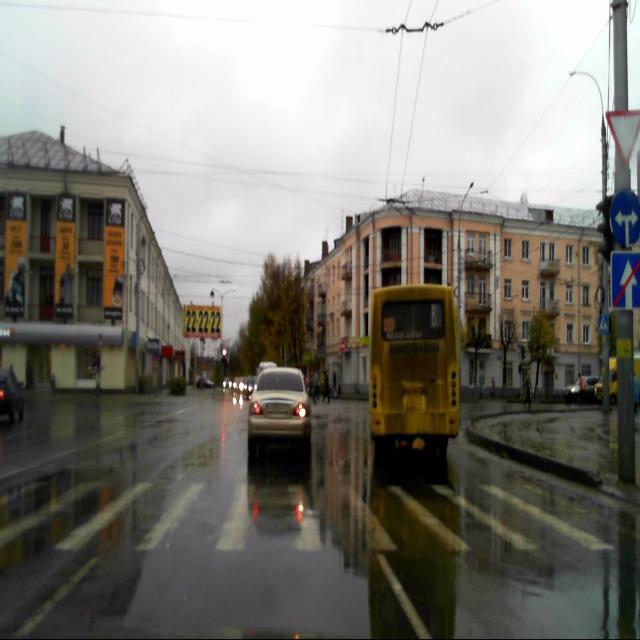road sign: (603, 109, 640, 173), (610, 251, 640, 309), (598, 315, 608, 334)
